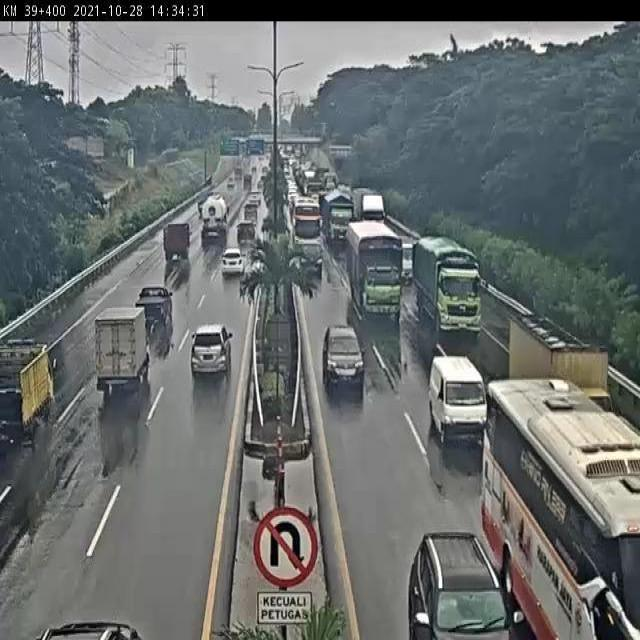big bus: (485, 386, 640, 640), (289, 198, 325, 250)
big truck: (414, 234, 485, 334), (346, 218, 408, 318)
car: (406, 532, 524, 640), (429, 355, 492, 445), (321, 324, 365, 393), (191, 324, 233, 383), (136, 286, 176, 330), (298, 240, 325, 273), (220, 248, 248, 277), (234, 223, 256, 252)
small truck: (512, 317, 617, 444), (0, 332, 57, 452), (94, 306, 154, 398), (198, 195, 230, 242), (162, 217, 194, 263)
